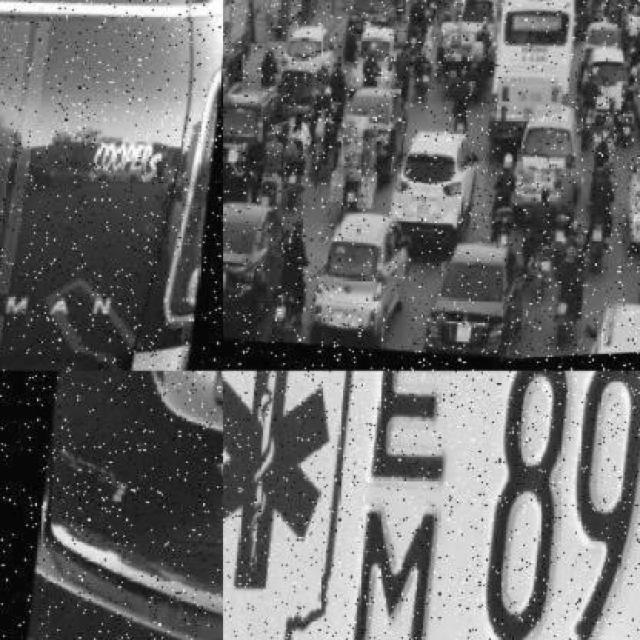licenseplate: (332, 371, 640, 640), (409, 199, 436, 227), (530, 165, 553, 193), (452, 326, 476, 352), (331, 307, 351, 336), (595, 87, 615, 116), (269, 303, 289, 326), (494, 232, 511, 258), (549, 300, 566, 323), (522, 109, 536, 129), (226, 146, 240, 166), (360, 19, 372, 33), (467, 35, 478, 49), (615, 0, 623, 5)
